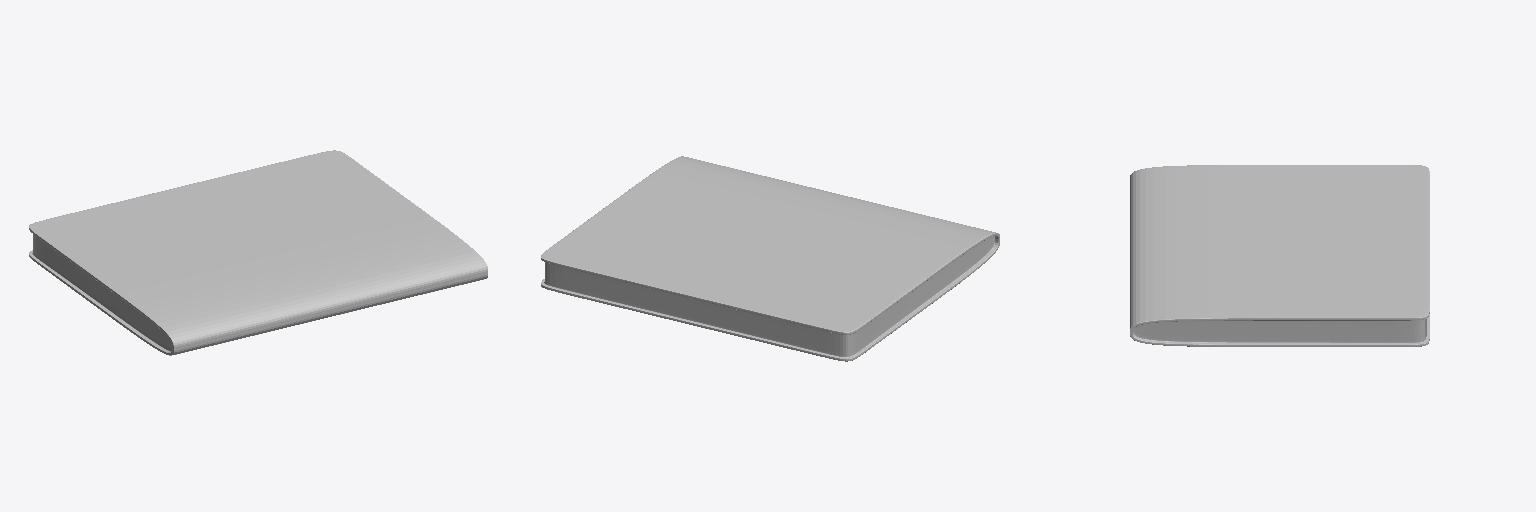
The model's file is Caderno_1.obj.
3 views of the same model, side by side, from view 1: azimuth 30°, elevation 25°; view 2: azimuth 150°, elevation 25°; view 3: azimuth 270°, elevation 25° (orthographic).
Parts seen in each view (by area): view 1: _Composition_Notebook_v1:_Composition_Notebook; view 2: _Composition_Notebook_v1:_Composition_Notebook; view 3: _Composition_Notebook_v1:_Composition_Notebook.
Boxes of the visible parts, x1,y1,x2,y2 form: _Composition_Notebook_v1:_Composition_Notebook: [29, 150, 487, 355]; _Composition_Notebook_v1:_Composition_Notebook: [541, 156, 999, 361]; _Composition_Notebook_v1:_Composition_Notebook: [1130, 165, 1429, 346].
Bounding box in the file's own units: 0.5438 × 0.0486 × 0.45.